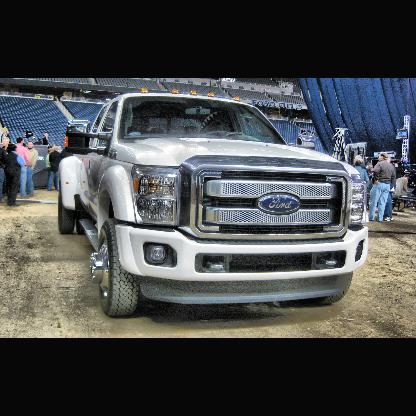Ford F-450 Super Duty Crew Cab 2012: (58, 87, 370, 317)
